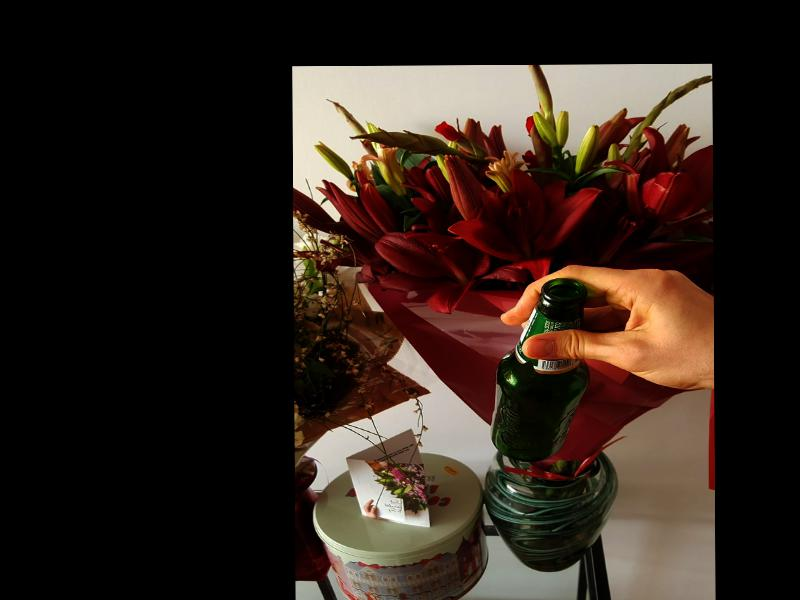Beer: (489, 279, 589, 461)
